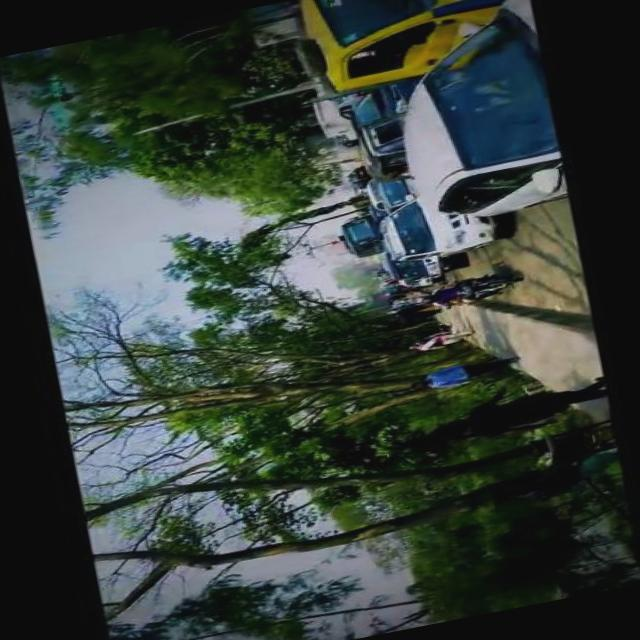bus: (334, 210, 382, 260)
car: (369, 0, 564, 227), (369, 180, 502, 267), (378, 236, 466, 282), (372, 173, 413, 211), (324, 91, 364, 122)
motorcycle: (352, 112, 412, 185), (448, 268, 522, 300)
truck: (295, 0, 526, 98)
